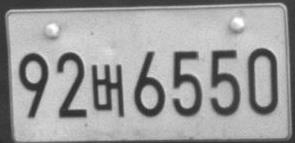0: (246, 47, 279, 115)
2: (55, 51, 88, 118)
5: (170, 50, 202, 117), (209, 49, 241, 116)
6: (133, 50, 166, 118)
9: (17, 51, 49, 119)
버: (90, 64, 125, 116)
